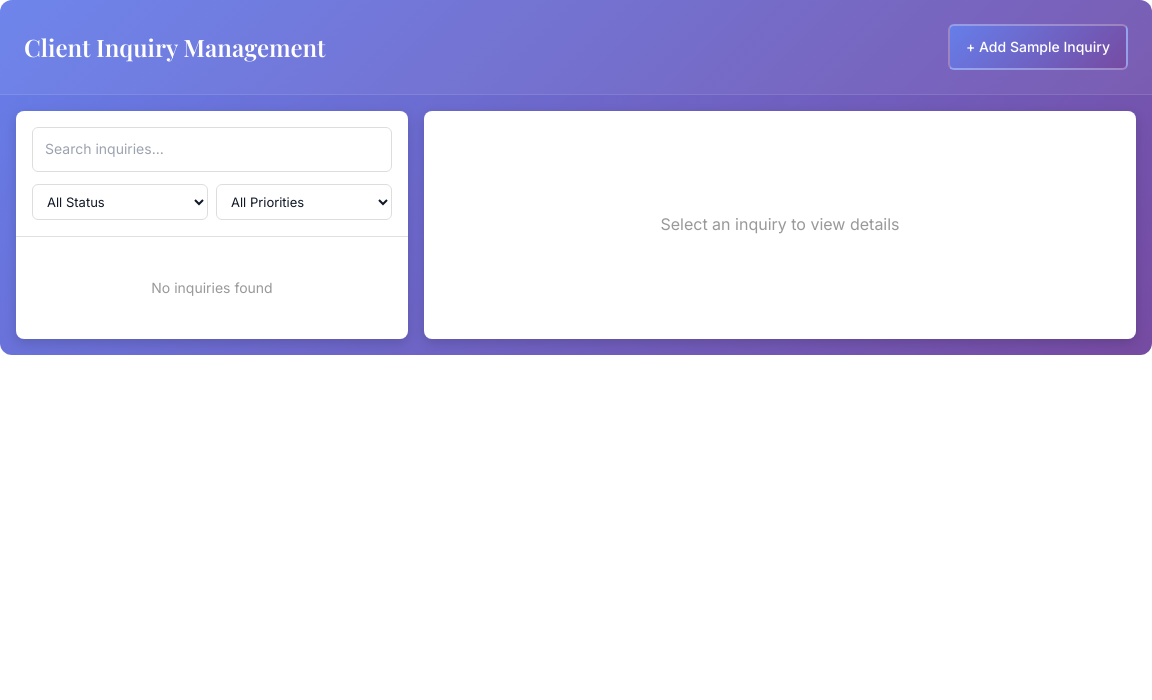
Scenario: Admin Panel Integration Tests › Inquiry Management Integration › should support inquiry notes management
The image size is (1152, 700).
Click the button with test id "btn-add-inquiry": (1038, 47) [948,24,1128,70]
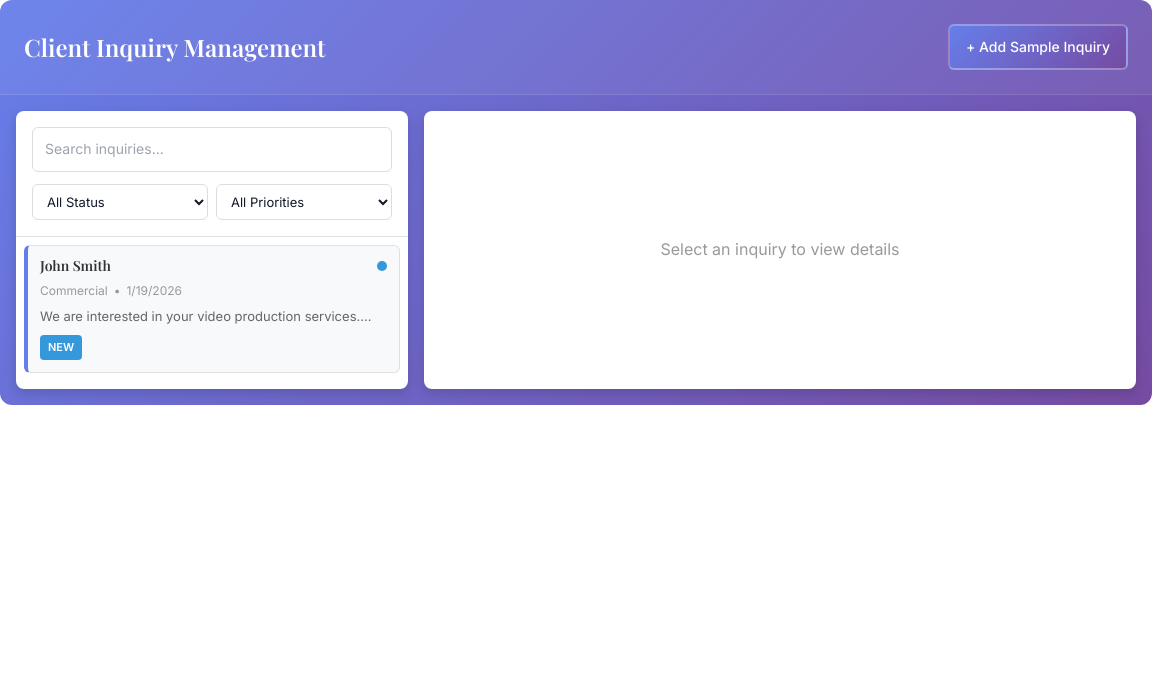
Click the element with test id "^inquiry-item-": (212, 309) [24,245,400,373]
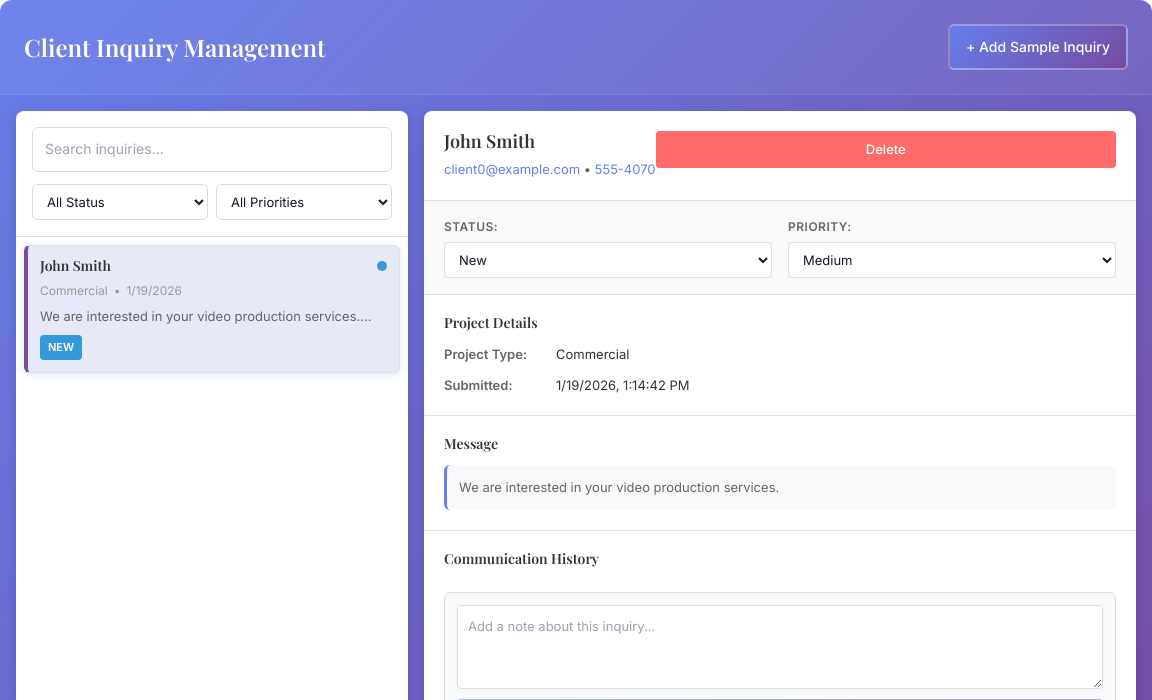
Expected: the text box with test id "note-textarea" is shown, [457,605,1103,689]
